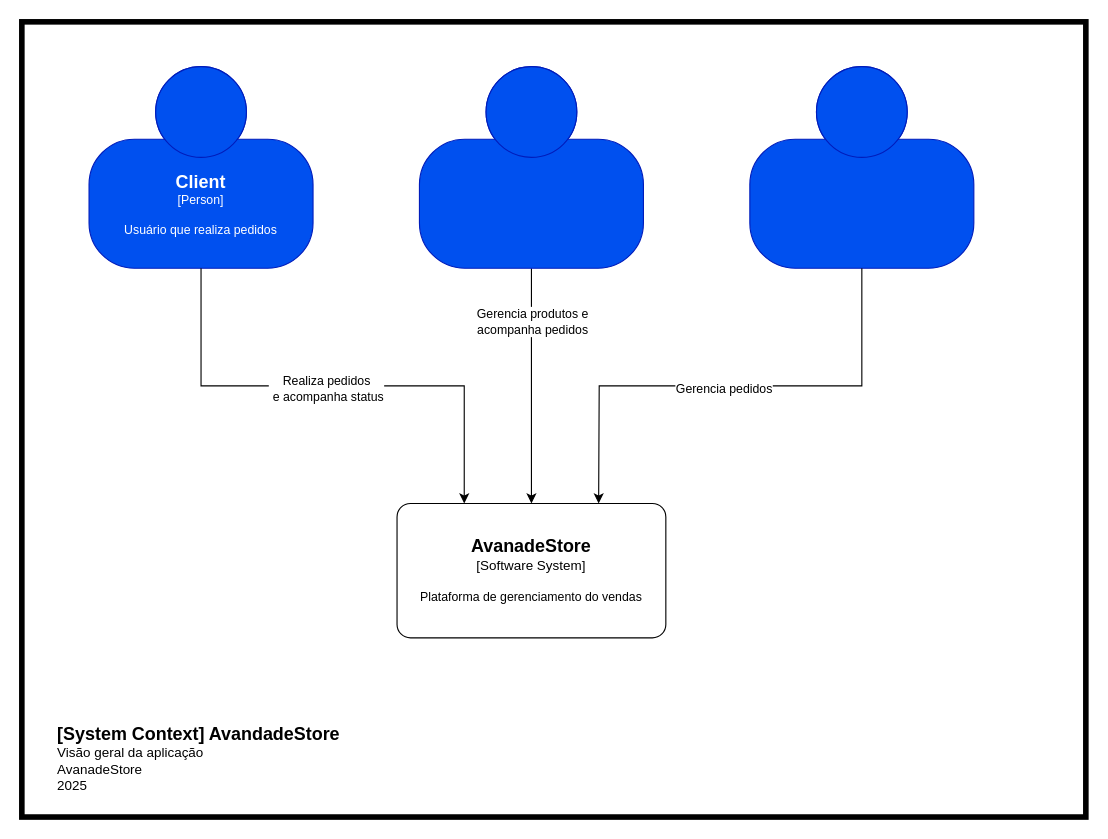
Image size: 1108x839. Some labels were removed from this diagram. The shapes that lost their labels are listed below. From the top down, each one's centre as x and y in pixels, then its label:
At pixel 530 167: "Manager [Person] Usuário que realiza cadastro de produtos".
At pixel 861 167: "Employee [Person] Usuário do estoques que separa pedidos".
